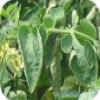Tomato mold leaf: (66, 26, 97, 88), (19, 24, 43, 94)
